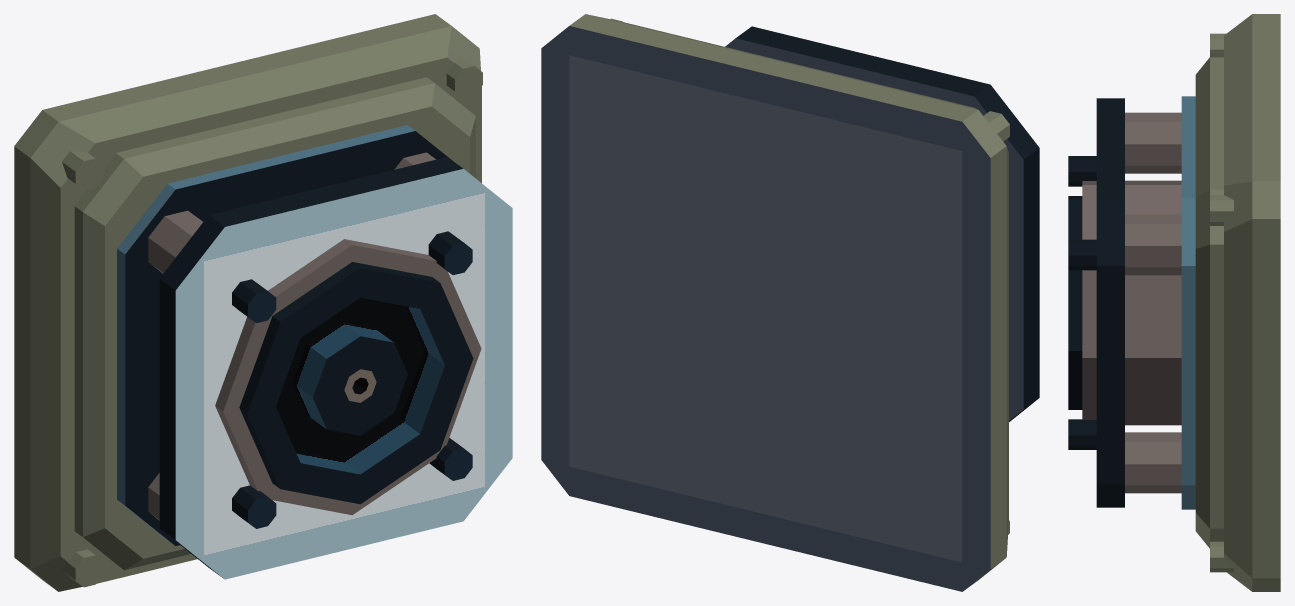
The model's file is ion.obj.
The picture shows the model from 3 angles, left to right: view 1: azimuth 30°, elevation 25°; view 2: azimuth 150°, elevation 25°; view 3: azimuth 270°, elevation 25°; orthographic projection. The views are drawn at different scales.
Visible parts, largest first — view 1: base; view 2: base; view 3: base.
Part boxes in pixels (<box>): base: <box>14,14,512,591</box>; base: <box>541,14,1039,591</box>; base: <box>1068,14,1280,591</box>.
Size of the model in its own units: 1 by 1 by 0.4688.
